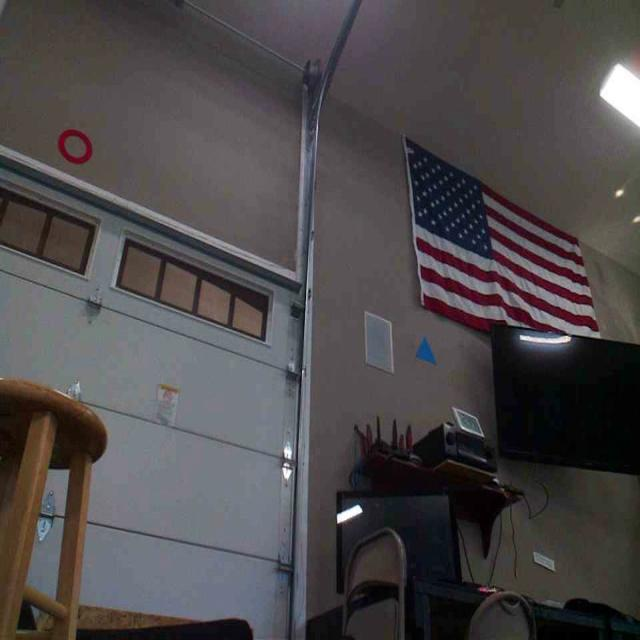ring_red: (57, 127, 92, 165)
triangle_blue: (413, 334, 438, 366)
